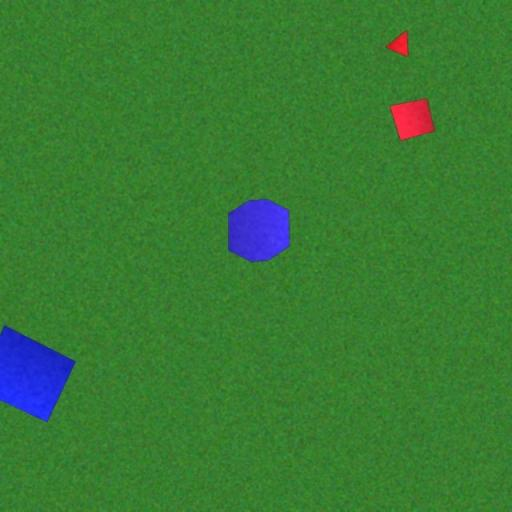BLUE_SQUARE: (0, 325, 76, 422)
RED_SQUARE: (389, 98, 436, 140)
